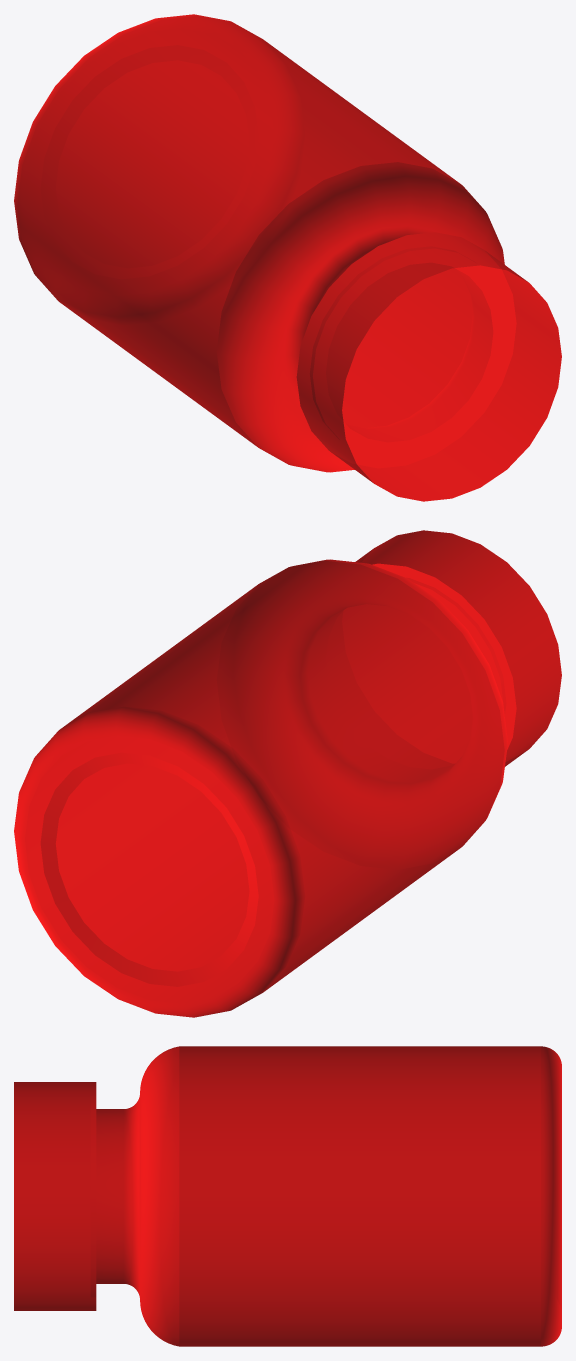
The model's file is model_scale.obj.
The picture shows the model from 3 angles, top to bottom: view 1: azimuth 30°, elevation 25°; view 2: azimuth 150°, elevation 25°; view 3: azimuth 270°, elevation 25°; orthographic projection. The views are drawn at different scales.
Parts seen in each view (by area): view 1: mesh1_mesh1-geometry; view 2: mesh1_mesh1-geometry; view 3: mesh1_mesh1-geometry.
Boxes of the visible parts, left/top/right/bottom form: mesh1_mesh1-geometry: left=14, top=14, right=561, bottom=501; mesh1_mesh1-geometry: left=14, top=530, right=561, bottom=1017; mesh1_mesh1-geometry: left=14, top=1046, right=561, bottom=1346.
Bounding box in the file's own units: 0.102 × 0.102 × 0.1855.
